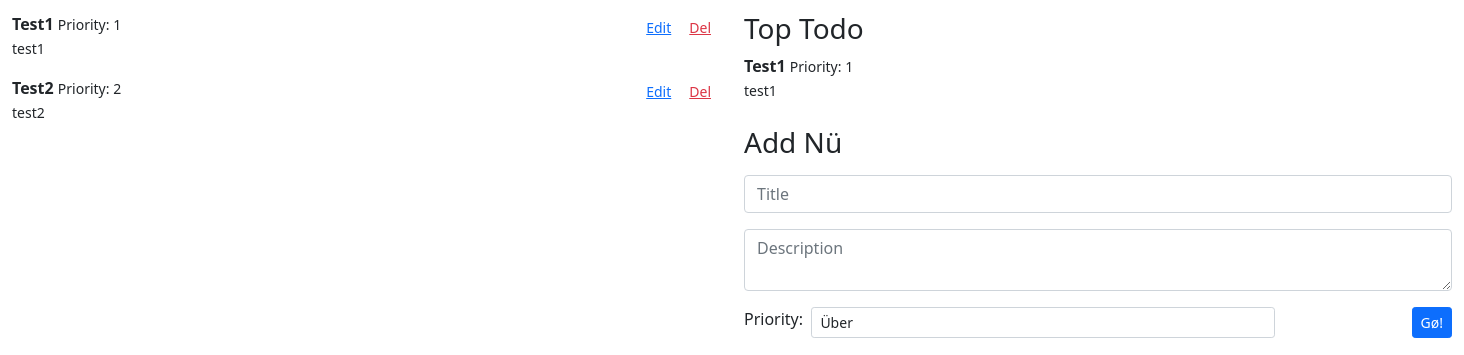
it: delete a todo when delete button clicked
Check: the number of elements with class "EditableTodo" is 2, box x1=12 y1=12 x2=720 y2=60; x1=12 y1=76 x2=720 y2=124
Step 1. Click the 1st button with class "EditableTodo-delBtn" → (700, 28), box x1=680 y1=12 x2=720 y2=43
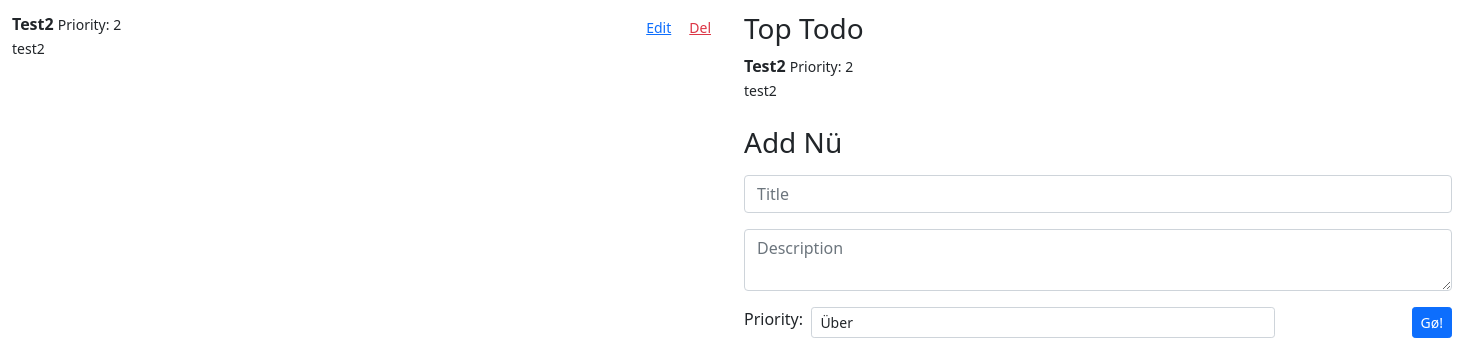
Check: the number of elements with class "EditableTodo" is 1, box x1=12 y1=12 x2=720 y2=60
